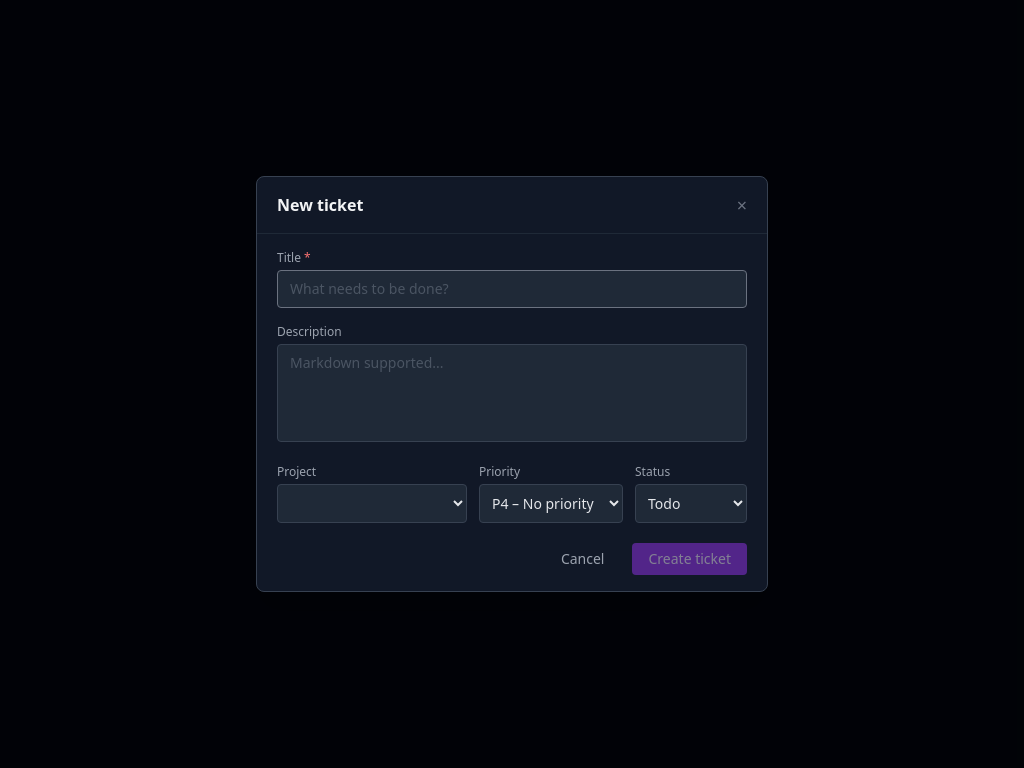
Scenario: CreateTicketModal › failed submit: shows error message
This screenshot has width=1024, height=768.
Type "My task" into the field with placeholder "What needs to be done?".
click(512, 289); type("My task")  # box [277, 270, 747, 308]
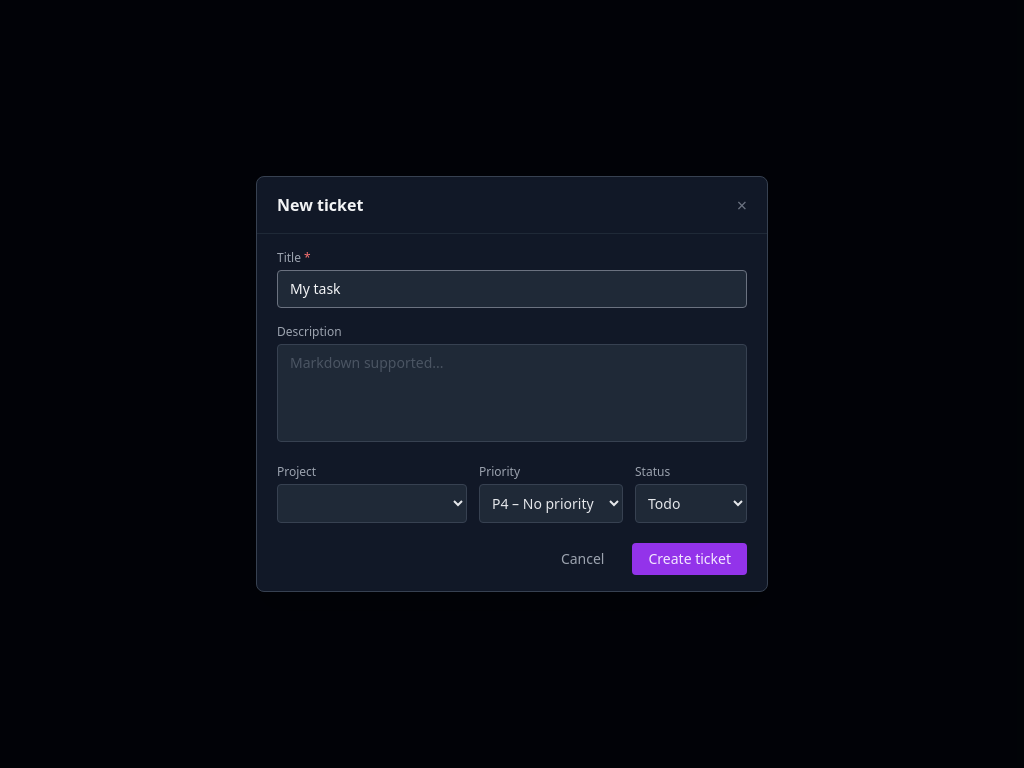
Submit the form "Create ticket", box [257, 234, 767, 591]
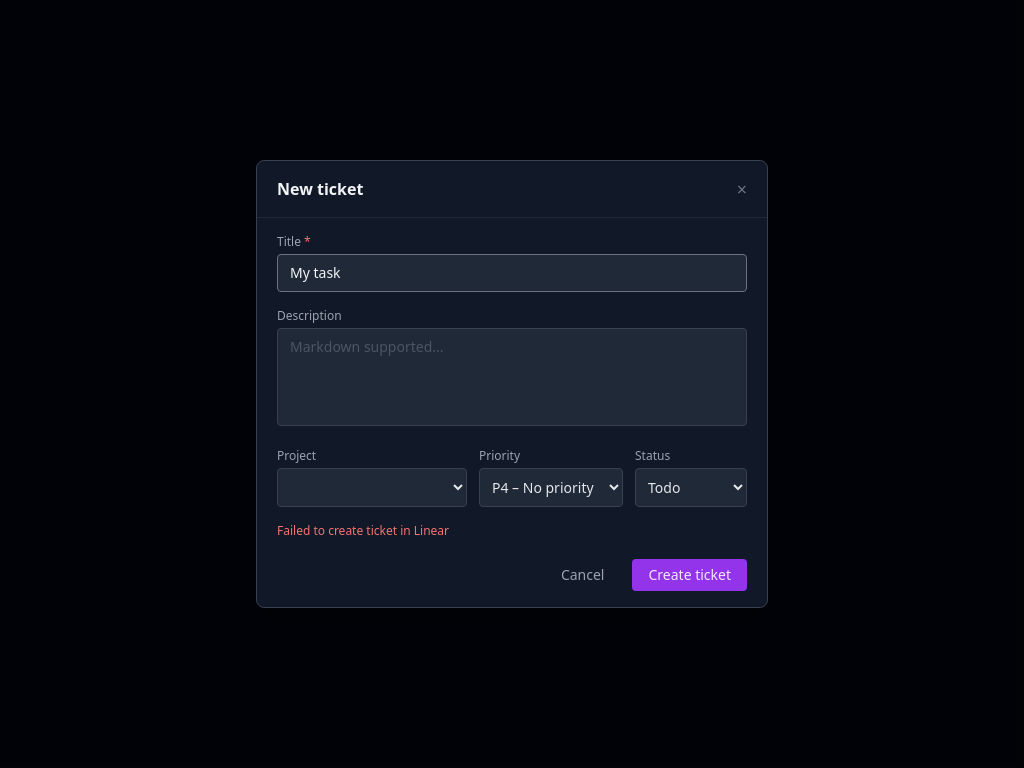
Result: the text "Failed to create ticket in Linear" is shown at [277, 522, 449, 539]
